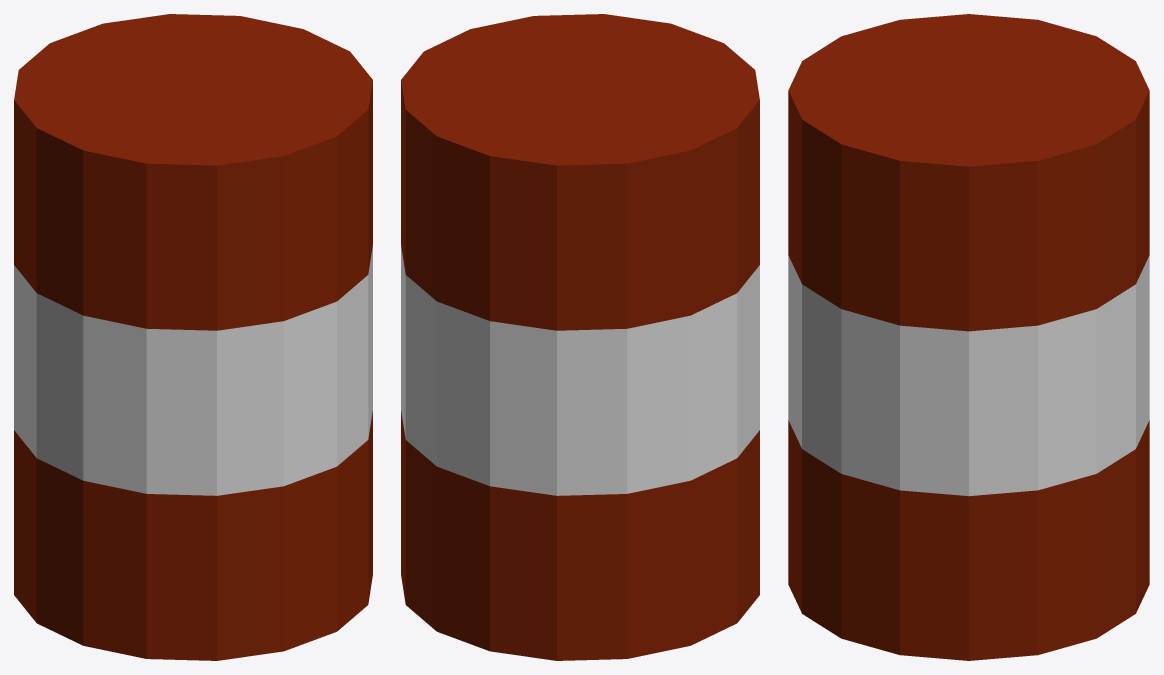
File: Barrel.fbx
3 renders of one model, left to right at view 1: azimuth 30°, elevation 25°; view 2: azimuth 150°, elevation 25°; view 3: azimuth 270°, elevation 25°, orthographic.
Parts seen in each view (by area): view 1: Barrel; view 2: Barrel; view 3: Barrel.
Boxes of the visible parts, x1,y1,x2,y2 form: Barrel: (14,14,372,660); Barrel: (401,14,759,660); Barrel: (788,14,1149,660).
Bounding box in the file's own units: 66.64 × 101 × 66.64.
1 material, 1 textured.
